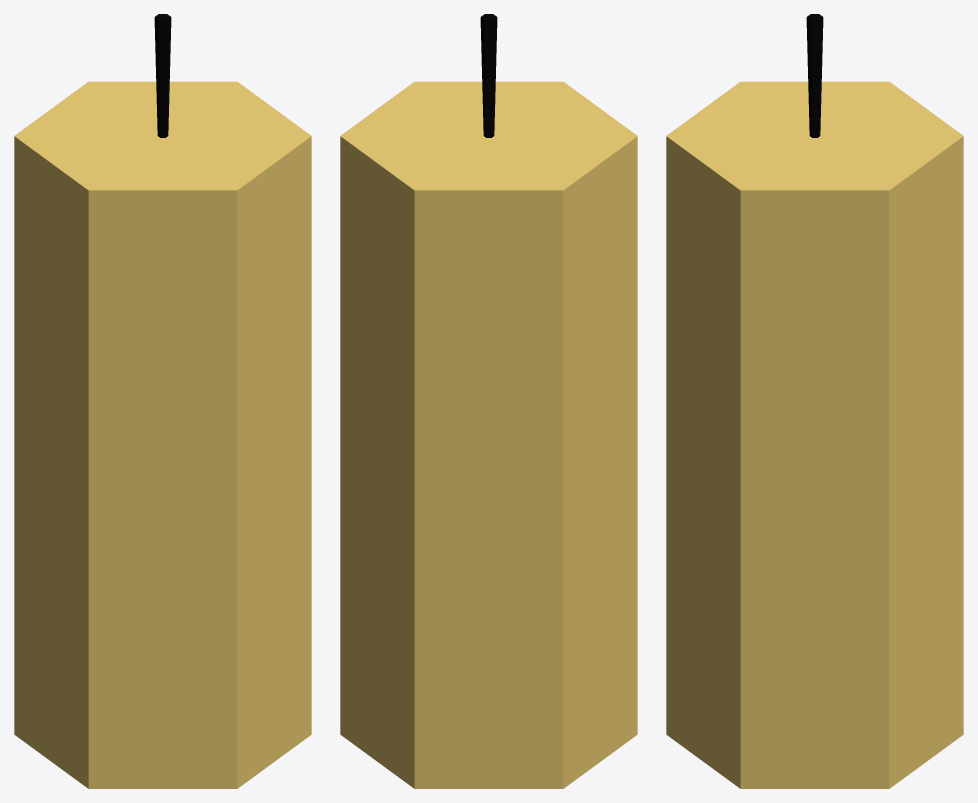
File: Prop_Candle.obj
3 renders of one model, left to right at view 1: azimuth 30°, elevation 25°; view 2: azimuth 150°, elevation 25°; view 3: azimuth 270°, elevation 25°, orthographic.
Visible parts, largest first — view 1: EXPORT_Prop_Candle; view 2: EXPORT_Prop_Candle; view 3: EXPORT_Prop_Candle.
Boxes of the visible parts, bbox=[...] form: EXPORT_Prop_Candle: bbox=[14, 14, 311, 788]; EXPORT_Prop_Candle: bbox=[340, 14, 637, 788]; EXPORT_Prop_Candle: bbox=[666, 14, 963, 788].
Size of the model in its own units: 0.0752 by 0.2309 by 0.0868.
